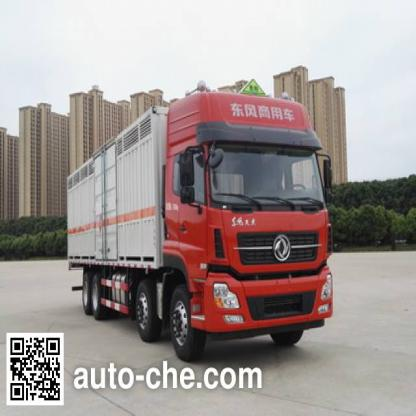normal-truck: (66, 101, 336, 353), (60, 15, 74, 84)
